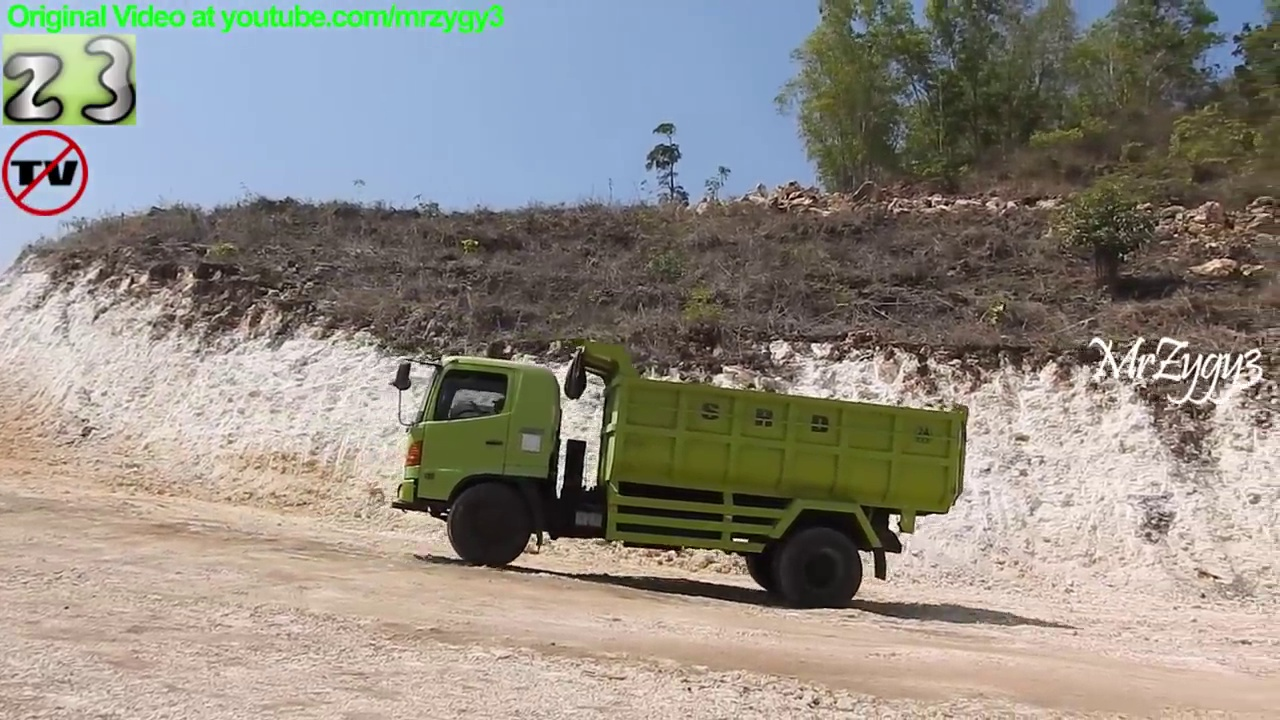truck: (382, 333, 979, 616)
